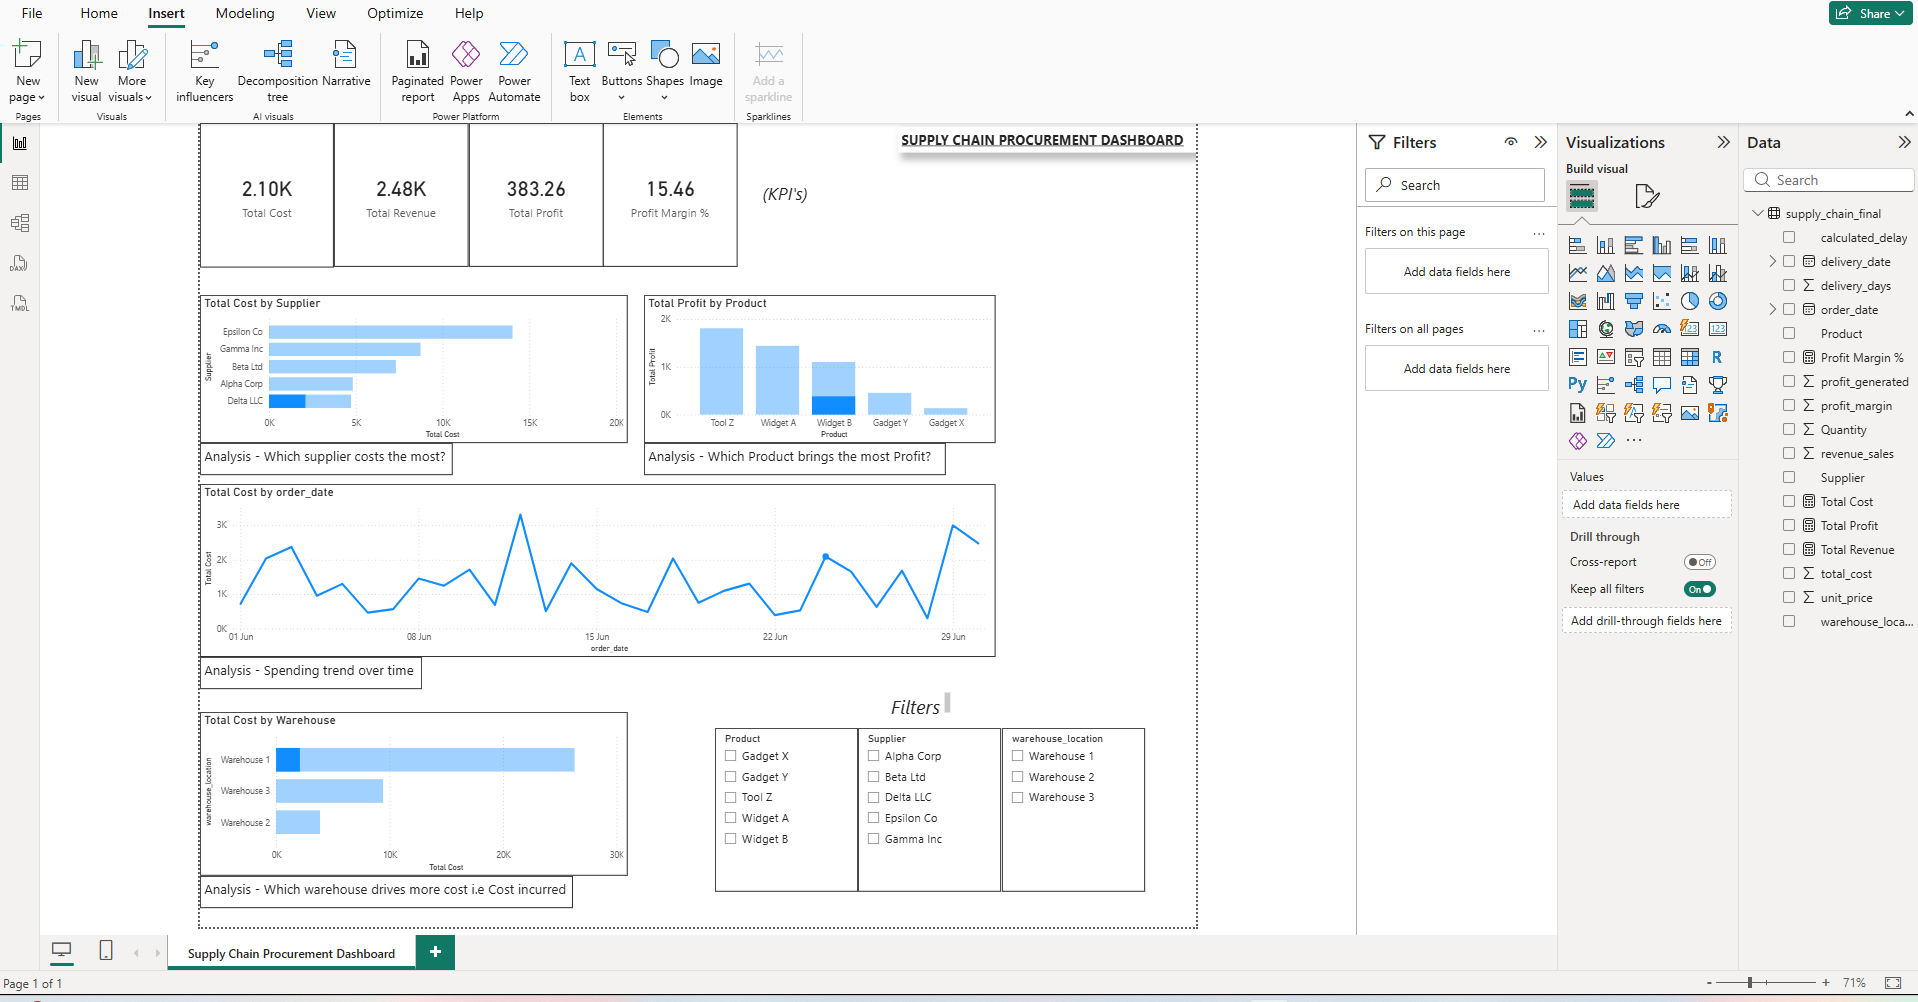

Layout of this report page (visuals, bound fields, positions):
{"tool":"powerbi","page":{"name":"Page 1","canvas":[1400,1130],"ordinal":0},"visuals":[{"type":"card","fields":{"Values":["supply_chain_final.Total Cost"]},"box":[0,0,188.1,203],"z":0},{"type":"card","fields":{"Values":["supply_chain_final.Total Revenue"]},"box":[188.7,0,188.7,202.3],"z":1000},{"type":"card","fields":{"Values":["supply_chain_final.Total Profit"]},"box":[377.4,0,188.7,202.3],"z":2000},{"type":"card","fields":{"Values":["supply_chain_final.Profit Margin %"]},"box":[566.1,0,188.7,202.3],"z":3000},{"type":"clusteredBarChart","fields":{"Category":["supply_chain_final.Supplier"],"Y":["supply_chain_final.Total Cost"]},"box":[0,241.2,601.1,208.1],"z":4000},{"type":"textbox","box":[0,449.3,355.2,44.8],"z":5000},{"type":"columnChart","fields":{"Category":["supply_chain_final.Product"],"Y":["supply_chain_final.Total Profit"]},"box":[624.4,241.2,494.1,208.1],"z":6000},{"type":"textbox","box":[623.9,449.3,423.9,44.8],"z":7000},{"type":"lineChart","fields":{"Category":["supply_chain_final.order_date"],"Y":["supply_chain_final.Total Cost"]},"box":[0,507.5,1117.9,243.3],"z":8000},{"type":"textbox","box":[0,750.7,311.9,44.8],"z":9000},{"type":"barChart","title":"Total Cost by Warehouse","fields":{"Y":["supply_chain_final.Total Cost"],"Category":["supply_chain_final.warehouse_location"]},"box":[0,828.4,601.5,229.9],"z":9001},{"type":"textbox","box":[0,1058.2,523.9,44.8],"z":9002},{"type":"slicer","fields":{"Values":["supply_chain_final.Product"]},"box":[723.9,850.7,201.5,229.9],"z":9003},{"type":"slicer","fields":{"Values":["supply_chain_final.Supplier"]},"box":[925.4,850.7,201.5,229.9],"z":9004},{"type":"slicer","fields":{"Values":["supply_chain_final.warehouse_location"]},"box":[1126.9,850.7,201.5,229.9],"z":9005},{"type":"textbox","box":[965.7,795.5,94,41.8],"z":9006},{"type":"textbox","box":[785.1,77.6,100,47.8],"z":9007},{"type":"textbox","box":[980.6,6,419.4,35.8],"z":9008}]}

Visuals, with their boxes on the page's 1400x1130 design canvas (x1, y1, x2, y2). These are canvas units, not pixel positions in the 1918x1002 screenshot, which may show the page scaled, cropped or inside an application window:
card - supply_chain_final.Total Cost: crop(0, 0, 188, 203)
card - supply_chain_final.Total Revenue: crop(189, 0, 377, 202)
card - supply_chain_final.Total Profit: crop(377, 0, 566, 202)
card - supply_chain_final.Profit Margin %: crop(566, 0, 755, 202)
clusteredBarChart - supply_chain_final.Supplier x supply_chain_final.Total Cost: crop(0, 241, 601, 449)
textbox: crop(0, 449, 355, 494)
columnChart - supply_chain_final.Product x supply_chain_final.Total Profit: crop(624, 241, 1118, 449)
textbox: crop(624, 449, 1048, 494)
lineChart - supply_chain_final.order_date x supply_chain_final.Total Cost: crop(0, 508, 1118, 751)
textbox: crop(0, 751, 312, 796)
"Total Cost by Warehouse" barChart: crop(0, 828, 602, 1058)
textbox: crop(0, 1058, 524, 1103)
slicer - supply_chain_final.Product: crop(724, 851, 925, 1081)
slicer - supply_chain_final.Supplier: crop(925, 851, 1127, 1081)
slicer - supply_chain_final.warehouse_location: crop(1127, 851, 1328, 1081)
textbox: crop(966, 796, 1060, 837)
textbox: crop(785, 78, 885, 125)
textbox: crop(981, 6, 1400, 42)
